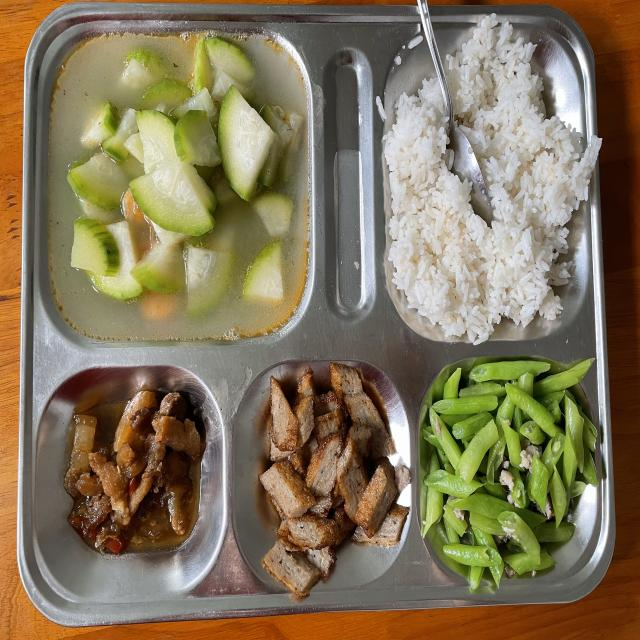com_trang: (418, 72, 578, 324)
thit_kho: (74, 408, 188, 536)
